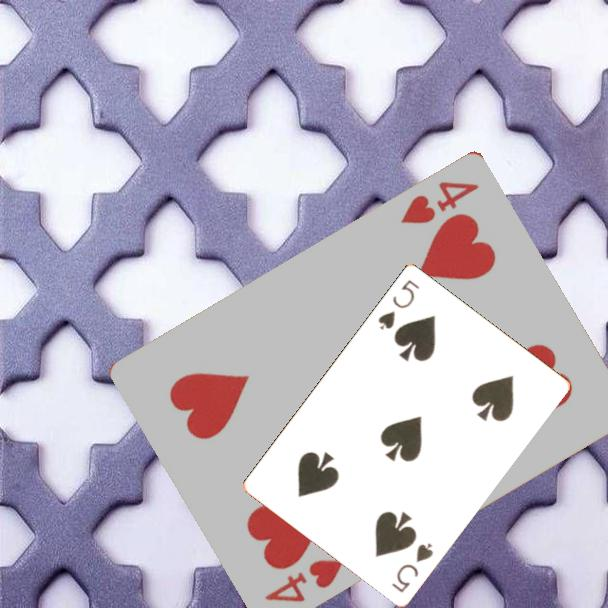h04: (396, 177, 483, 227), (261, 555, 348, 605)
s05: (374, 276, 422, 333), (388, 538, 436, 595)
